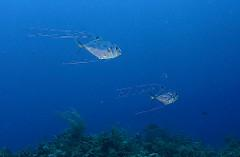Carangidae -Jacks-: (28, 25, 122, 63), (113, 79, 183, 112)
